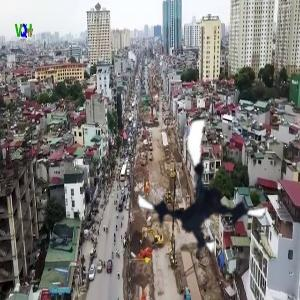drone: (133, 116, 279, 262)
